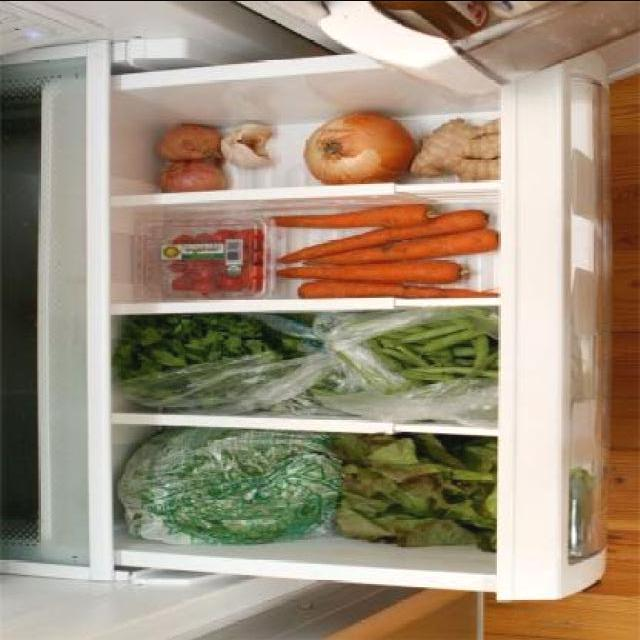carrot: (304, 228, 506, 266), (265, 203, 448, 231), (267, 262, 473, 284), (286, 282, 500, 302)
onion: (302, 109, 425, 183)
